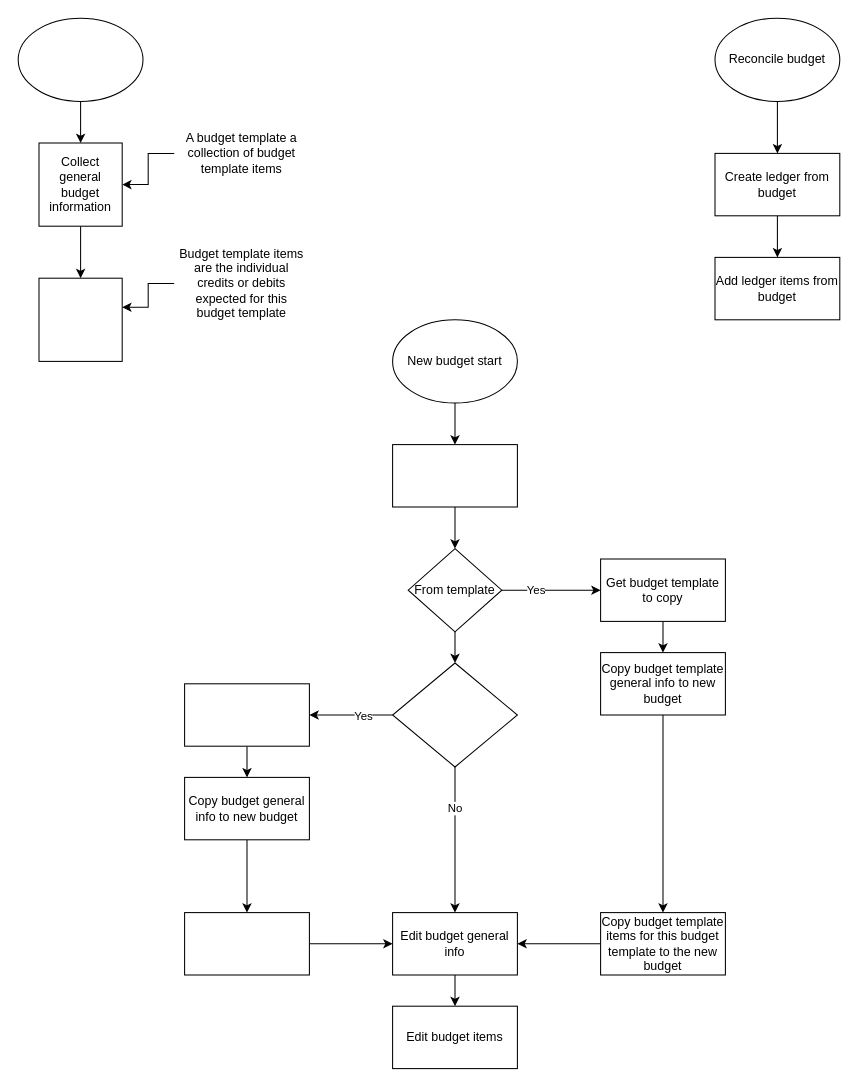
Image size: 858x1087. Some labels were removed from this diagram. The centre of each missing label's shape, as x and y in pixels:
Collect budget items: point 80,319
Copy budget template items for this budget to new budget: point 246,943
Copy from existing budget: point 454,714
Get budget to copy: point 246,714
Get general budget information: point 454,475
New budget template start: point 80,59
